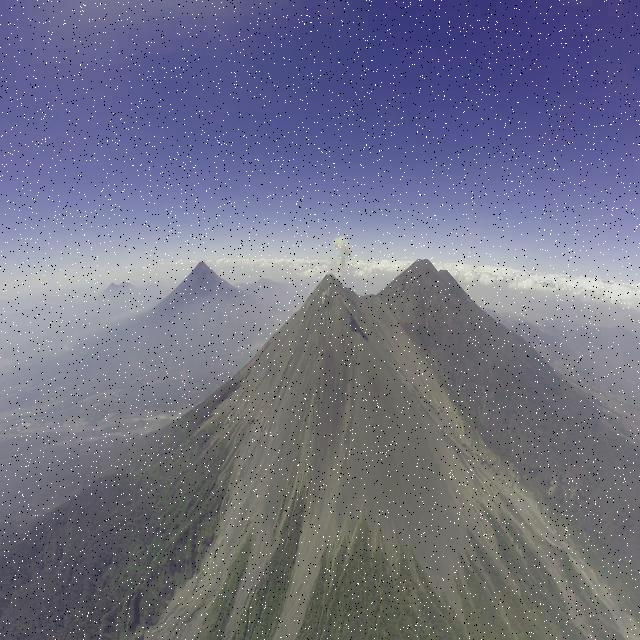Plume: (332, 233, 351, 267)
Summit: (299, 272, 362, 314)
